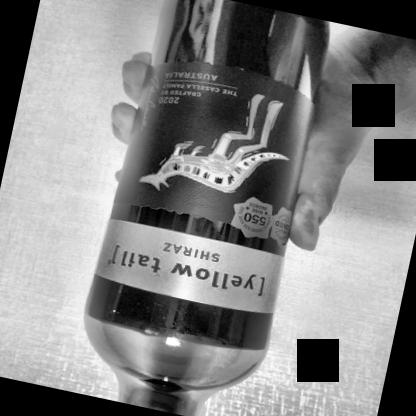yellowtail: (93, 54, 318, 316)
